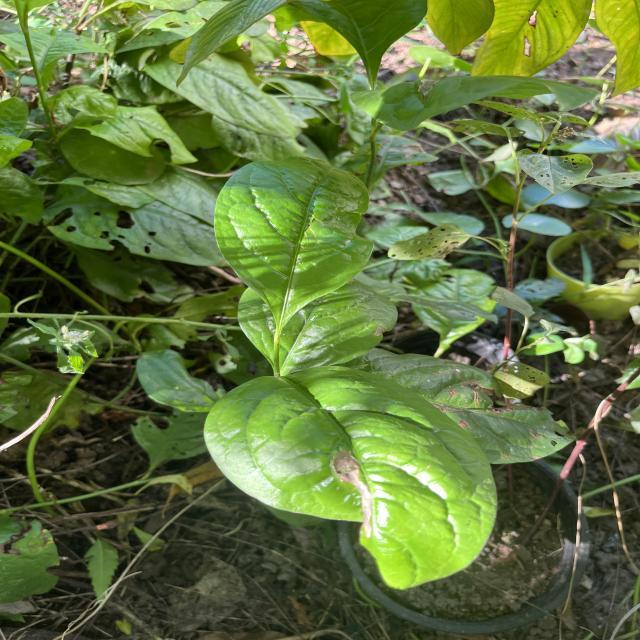Plumbago indica: (202, 364, 502, 594), (208, 155, 381, 334)
